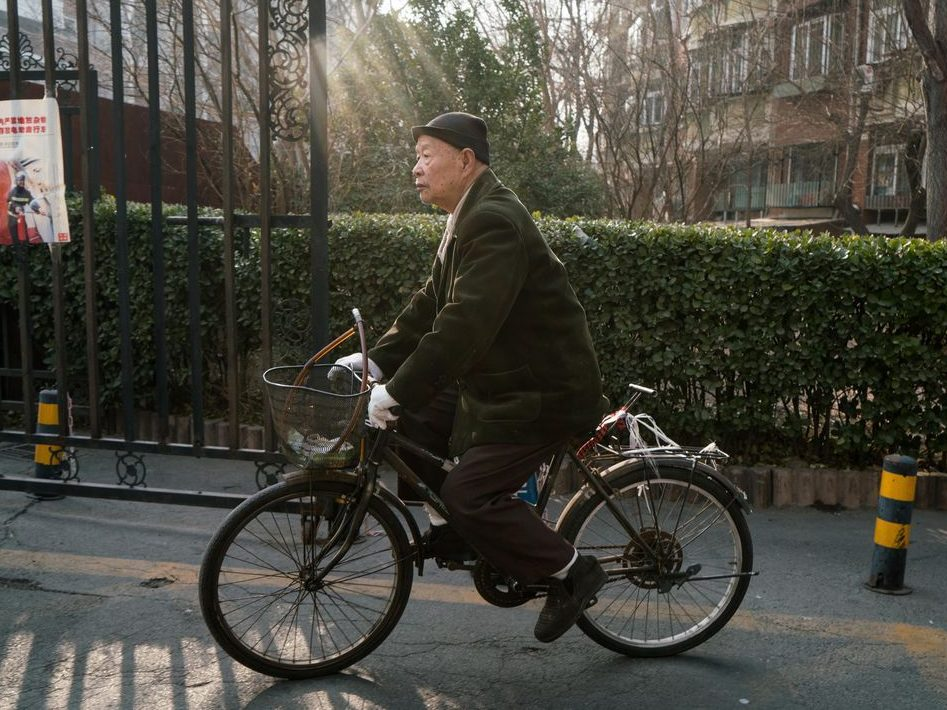Person: (212, 107, 633, 643)
